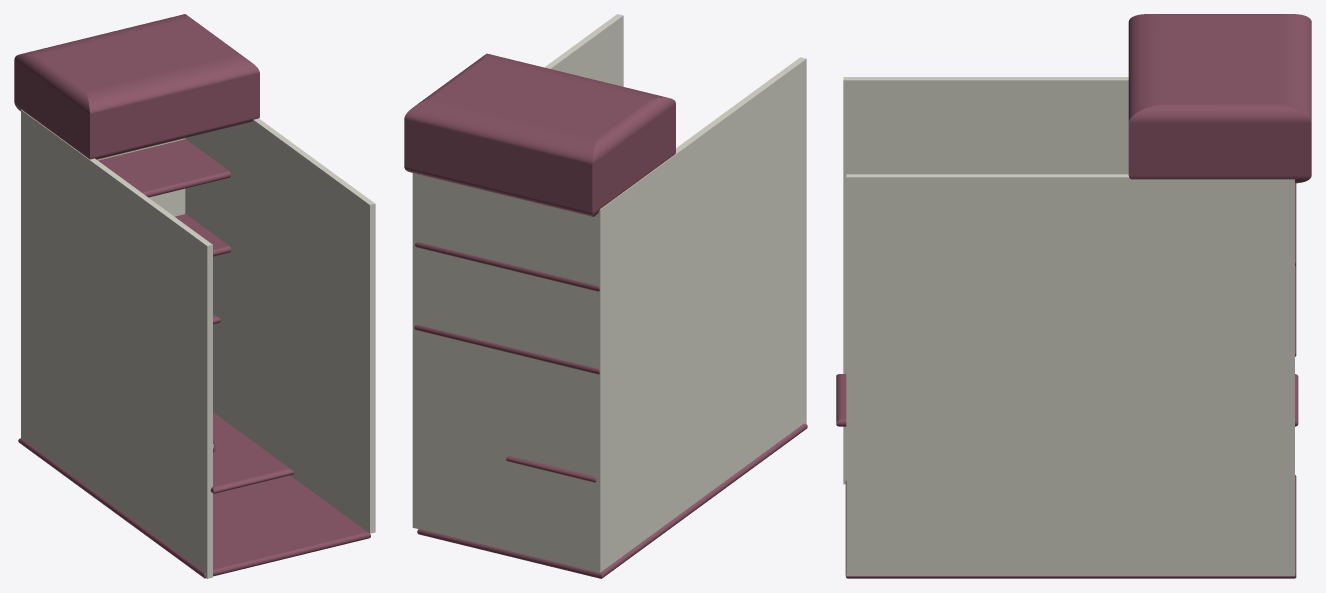
File: SuyogBuilding.glb
3 renders of one model, left to right at view 1: azimuth 30°, elevation 25°; view 2: azimuth 150°, elevation 25°; view 3: azimuth 270°, elevation 25°, orthographic. The views are drawn at different scales.
Visible parts, largest first — view 1: Rectangle 8, Rectangle 2.002, Rectangle, Rectangle 5.002, Rectangle 9, Rectangle 5.001, Rectangle 2.003, Rectangle 2.001; view 2: Rectangle 8, Rectangle 2.003, Rectangle, Rectangle 2.002, Rectangle 5.002, Rectangle 2.001, Rectangle 9, Rectangle 5.001; view 3: Rectangle 2.002, Rectangle, Rectangle 8, Rectangle 5.002, Rectangle 5.001.
Part boxes in pixels (left/top/right/bottom): Rectangle 8: left=21, top=109, right=212, bottom=578; Rectangle 2.002: left=185, top=118, right=375, bottom=533; Rectangle: left=14, top=14, right=259, bottom=159; Rectangle 5.002: left=18, top=438, right=370, bottom=578; Rectangle 9: left=98, top=139, right=230, bottom=197; Rectangle 5.001: left=210, top=412, right=293, bottom=493; Rectangle 2.003: left=97, top=138, right=185, bottom=216; Rectangle 2.001: left=175, top=214, right=230, bottom=256; Rectangle 8: left=594, top=57, right=806, bottom=573; Rectangle 2.003: left=419, top=174, right=594, bottom=571; Rectangle: left=404, top=53, right=675, bottom=216; Rectangle 2.002: left=412, top=14, right=623, bottom=528; Rectangle 5.002: left=417, top=423, right=807, bottom=578; Rectangle 2.001: left=414, top=324, right=599, bottom=374; Rectangle 9: left=415, top=242, right=599, bottom=291; Rectangle 5.001: left=506, top=455, right=596, bottom=482; Rectangle 2.002: left=846, top=174, right=1294, bottom=576; Rectangle: left=1128, top=14, right=1311, bottom=183; Rectangle 8: left=843, top=77, right=1128, bottom=484; Rectangle 5.002: left=845, top=475, right=1296, bottom=578; Rectangle 5.001: left=836, top=374, right=1298, bottom=426.
Bounding box in the file's own units: 10.69 × 23.11 × 21.04.
